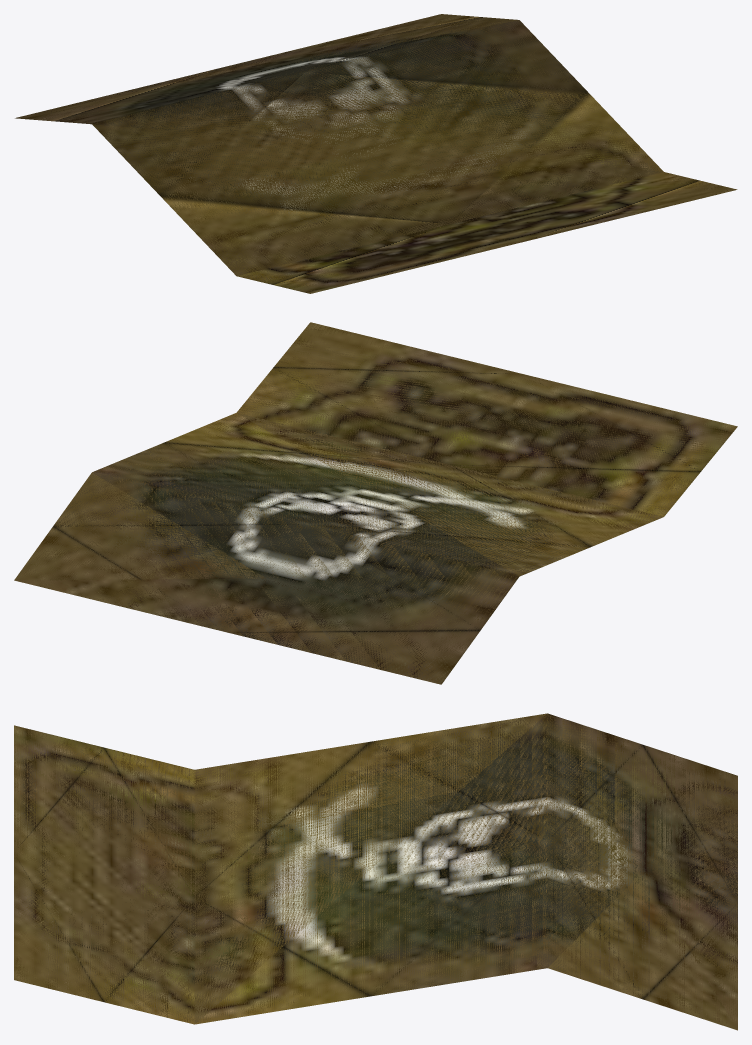
Rendered from ITSC_SUMSKEL.glb.
3 renders of one model, top to bottom at view 1: azimuth 30°, elevation 25°; view 2: azimuth 150°, elevation 25°; view 3: azimuth 270°, elevation 25°, orthographic. The views are drawn at different scales.
Parts seen in each view (by area): view 1: Mesh; view 2: Mesh; view 3: Mesh.
Boxes of the visible parts, x1,y1,x2,y2 form: Mesh: (15, 14, 737, 293); Mesh: (14, 322, 737, 684); Mesh: (14, 713, 737, 1030).
Size of the model in its own units: 0.46 by 0.0525 by 0.5524.
1 material, 1 textured.
